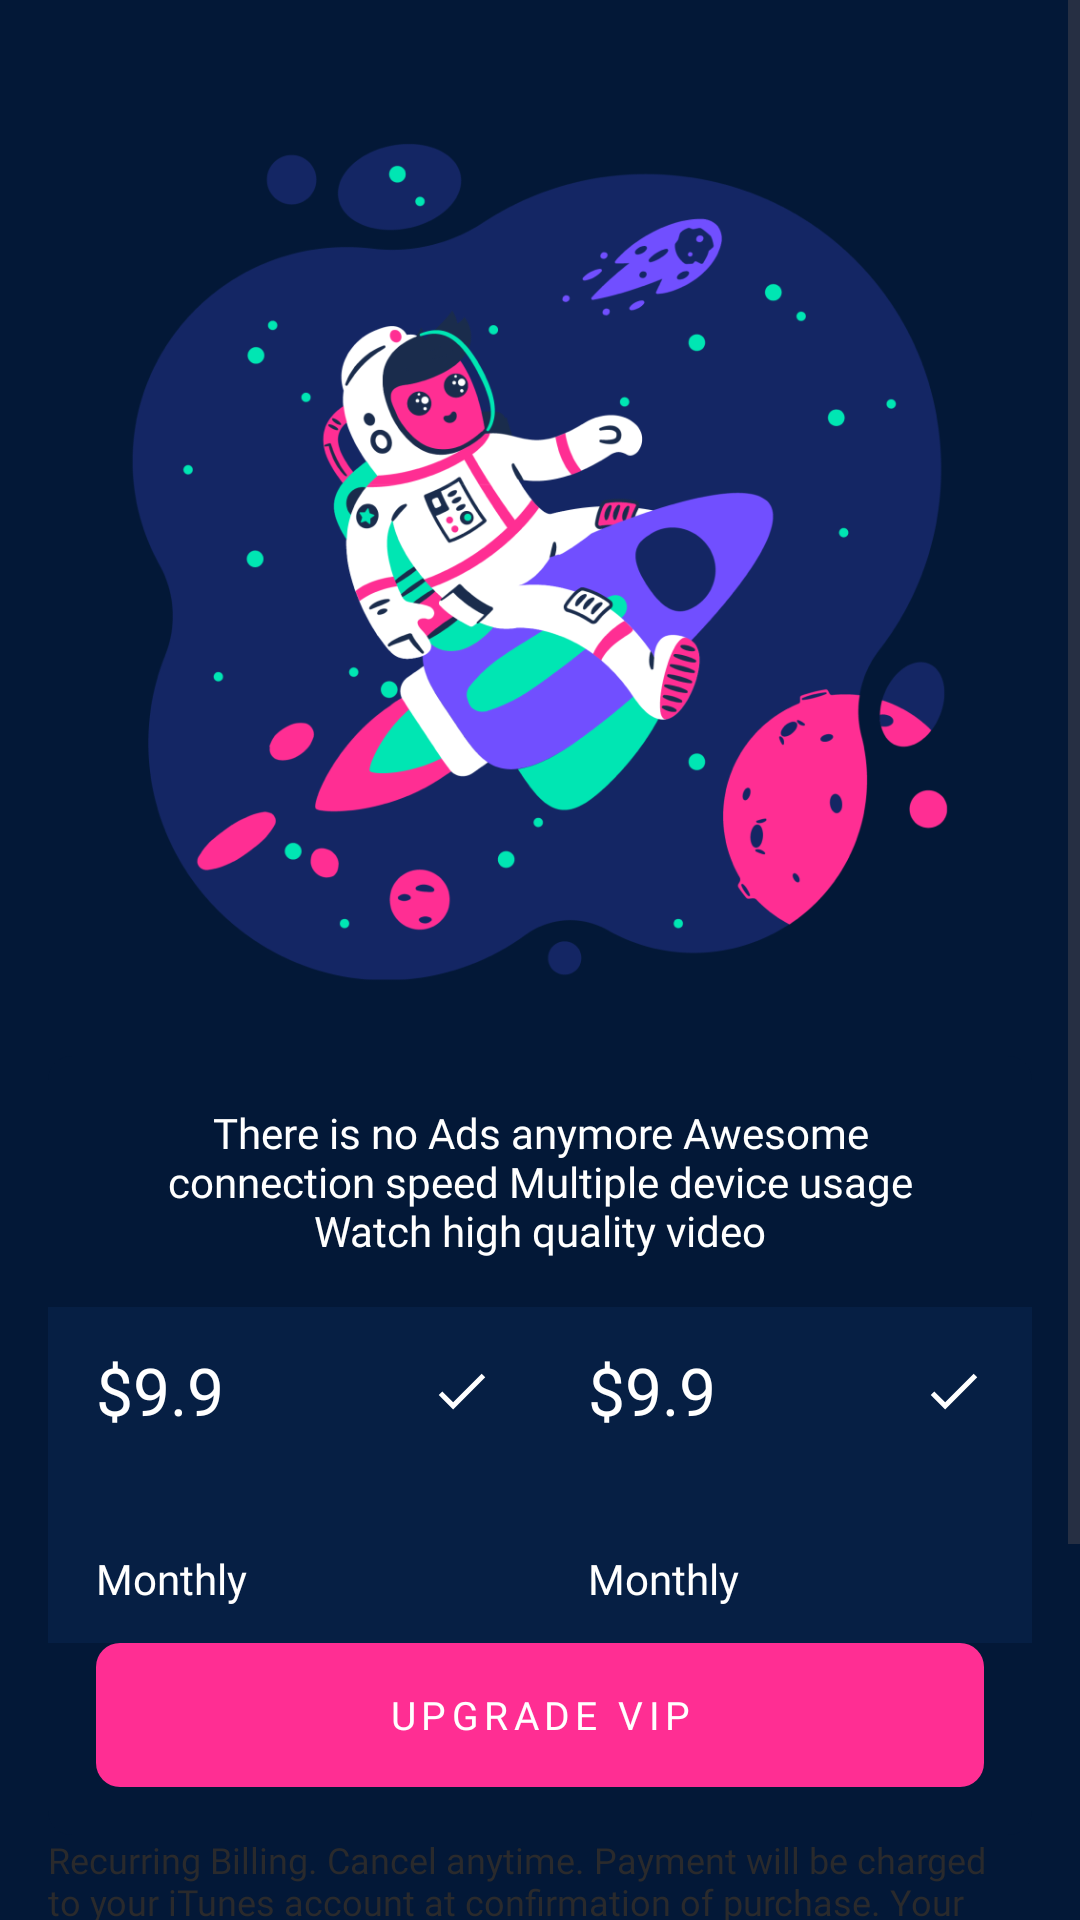

Screen size 1080 x 1920. Icon name, then its box in pixels as Rect(x1, y1, x2, y2):
check: Rect(439, 1374, 485, 1410), Rect(931, 1374, 977, 1410)
